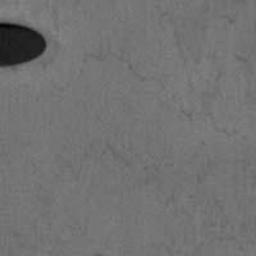Punching: (0, 22, 46, 67)
